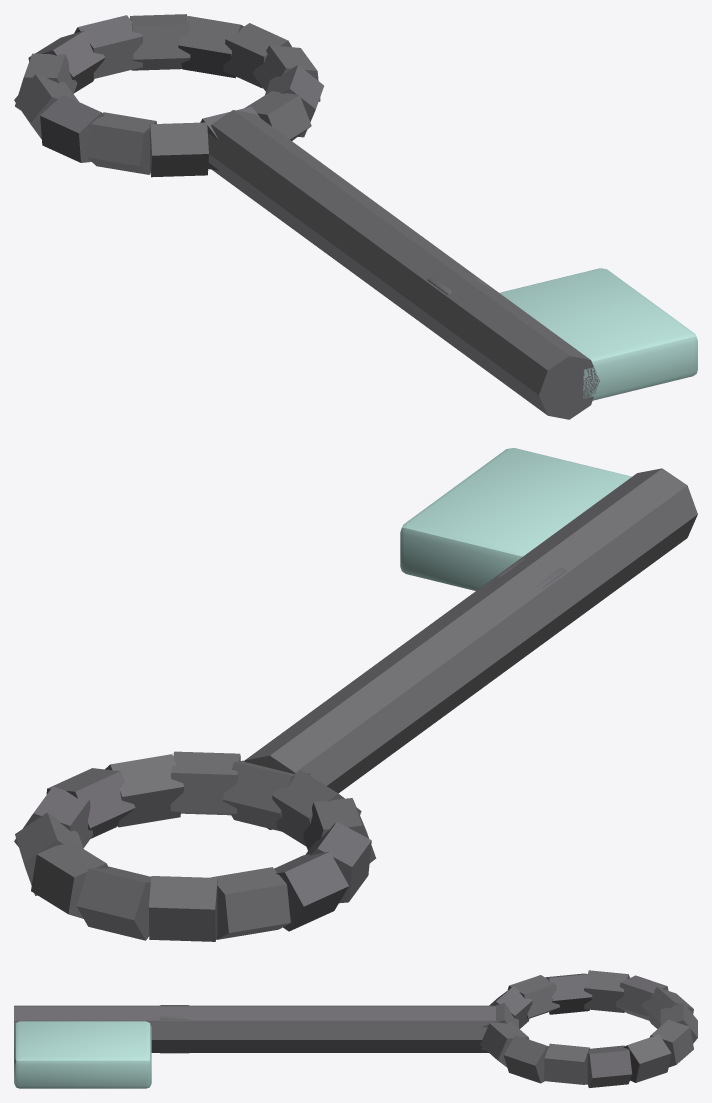
Rendered from quest_bell_key.gltf.
3 views of the same model, one above another, from view 1: azimuth 30°, elevation 25°; view 2: azimuth 150°, elevation 25°; view 3: azimuth 270°, elevation 25° (orthographic). The views are drawn at different scales.
Parts seen in each view (by area): view 1: Body, Glow; view 2: Body, Glow; view 3: Body, Glow.
Boxes of the visible parts, x1,y1,x2,y2 form: Body: [14, 14, 599, 419]; Glow: [499, 268, 697, 400]; Body: [14, 468, 697, 941]; Glow: [400, 448, 631, 590]; Body: [14, 970, 697, 1087]; Glow: [14, 1021, 151, 1088].
Bounding box in the file's own units: 0.195 × 0.044 × 0.596.
